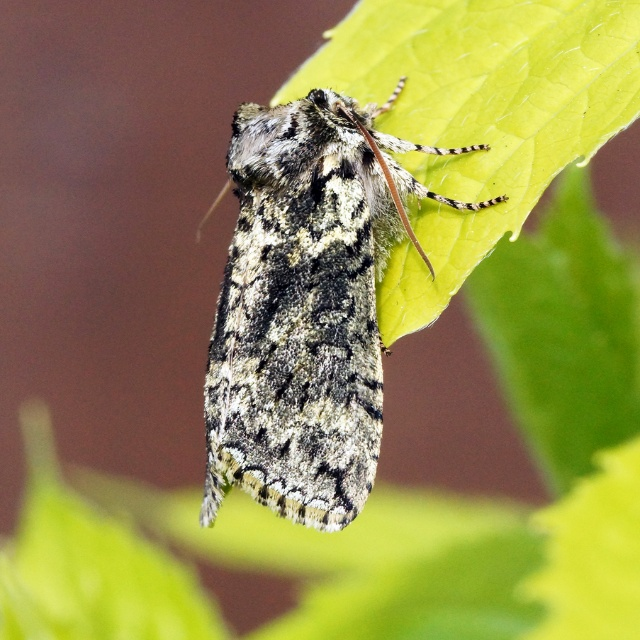Butterfly: (188, 80, 505, 536)
